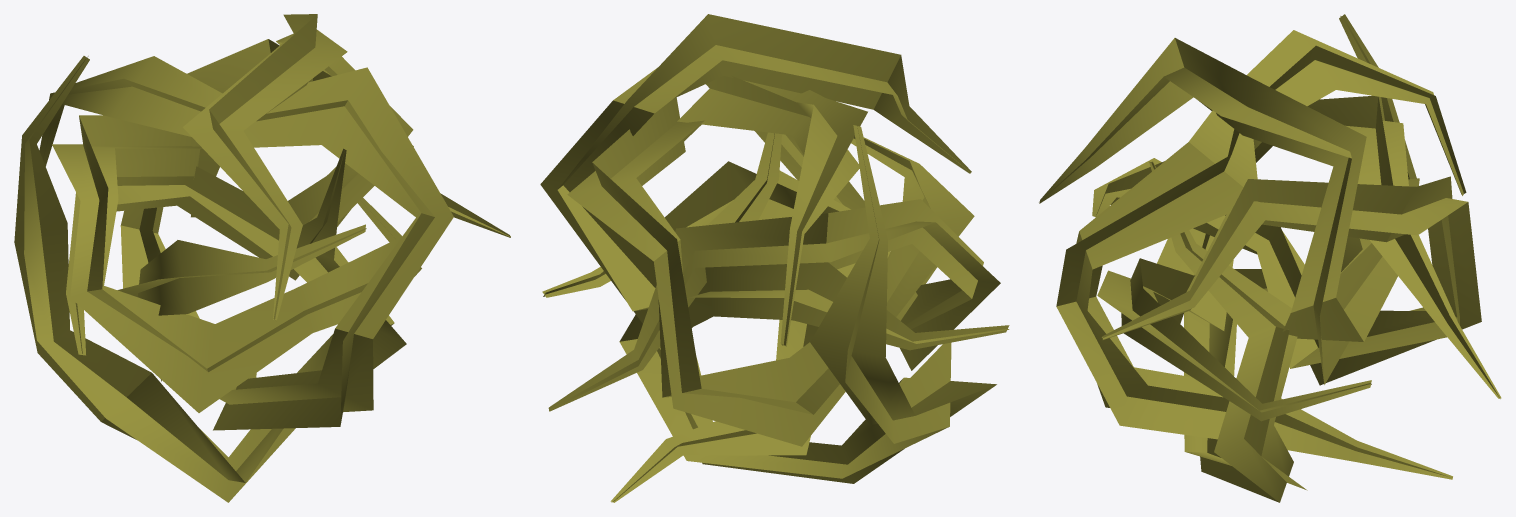
Rendered from etc_gargoyle_weapon_gargoyleweapon_elec_eff.glb.
3 views of the same model, side by side, from view 1: azimuth 30°, elevation 25°; view 2: azimuth 150°, elevation 25°; view 3: azimuth 270°, elevation 25° (orthographic). The views are drawn at different scales.
Bounding box in the file's own units: 0.377 × 0.4054 × 0.3785.
